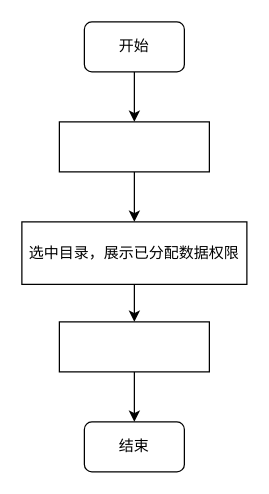
Some shapes in this 269 by 494 pixel diagram are drawn without their labels. Each missing label, with the centre of its shape:
"展示已分配目录权限" belongs at point (133, 146).
"给目标数据设置参数" belongs at point (133, 346).
